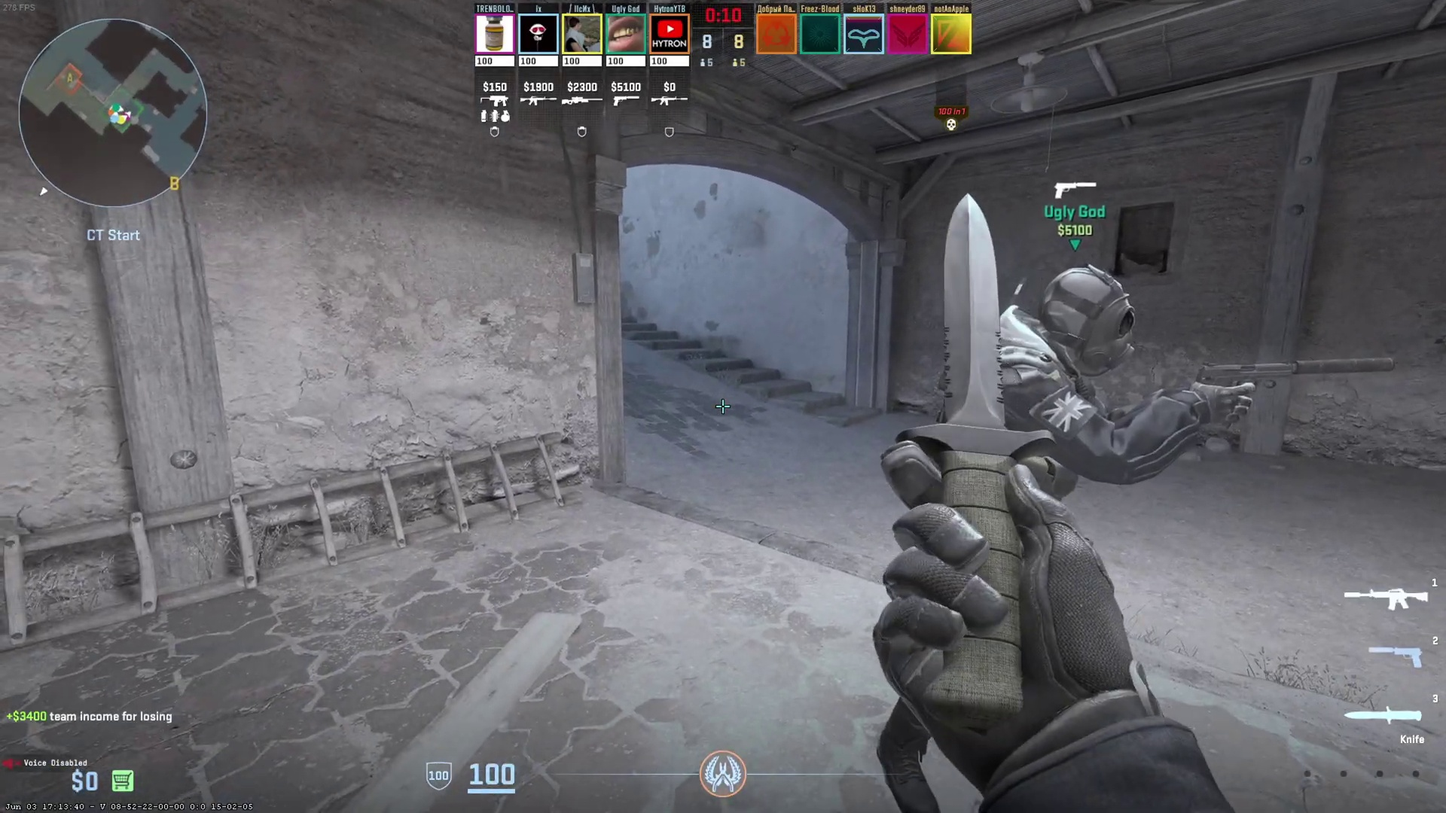CT: (1008, 270, 1137, 532)
